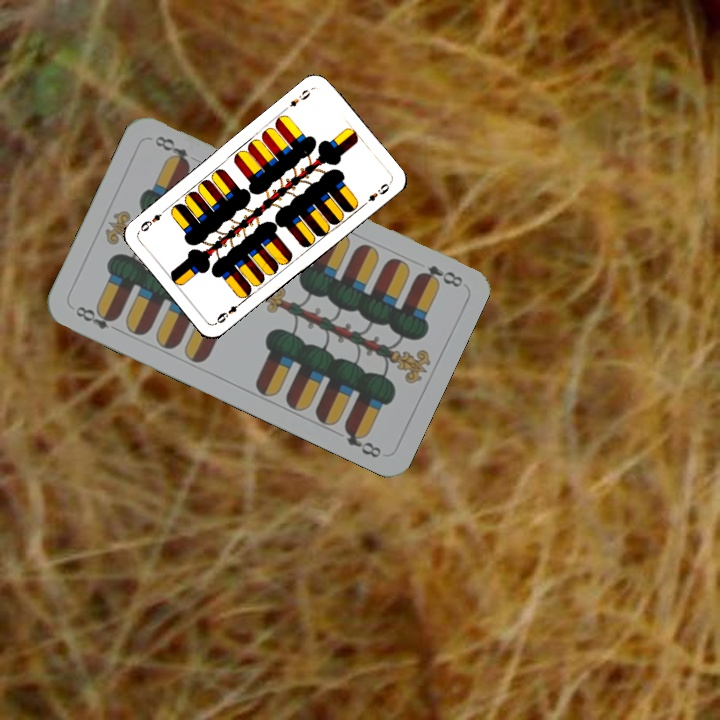E8: (71, 302, 124, 335), (413, 261, 466, 290)
E9: (211, 297, 246, 327), (285, 85, 313, 110)
